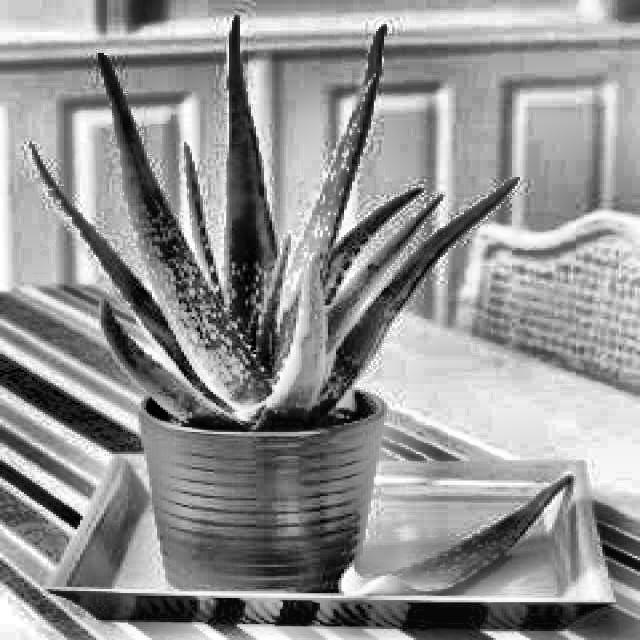plants: (34, 31, 515, 428)
